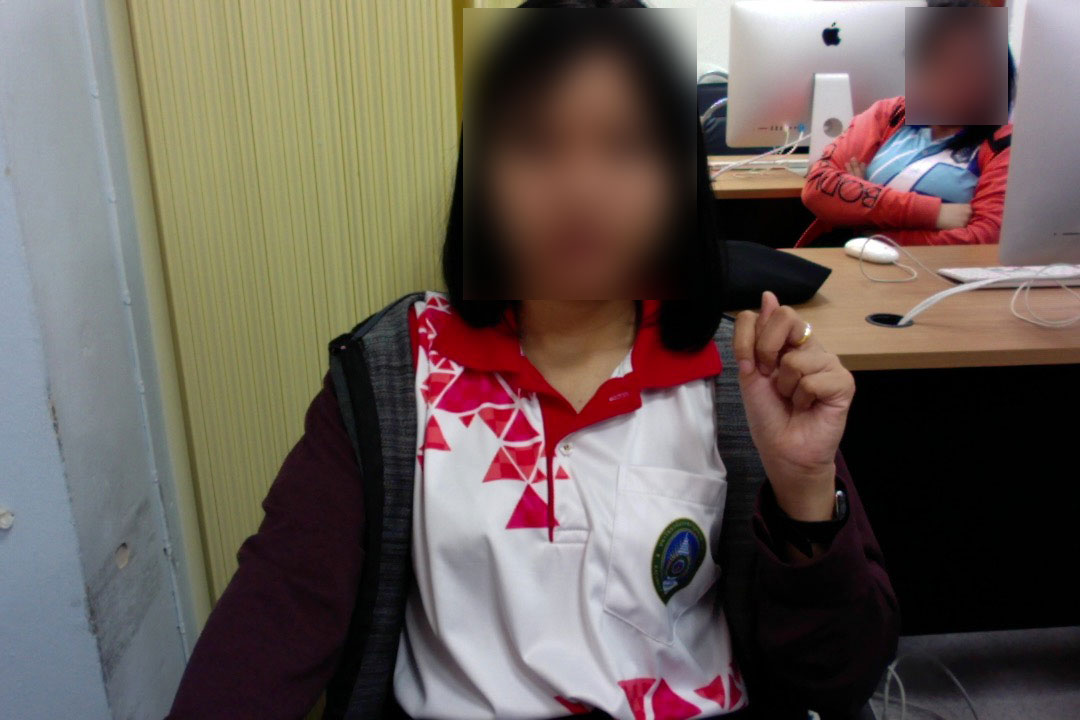tor: (731, 286, 859, 504)
